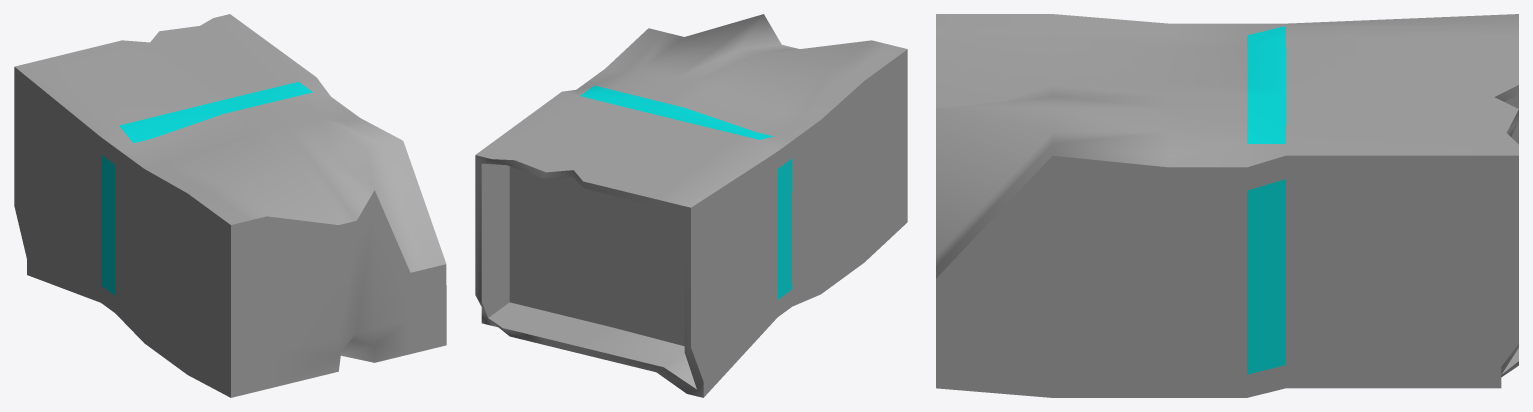
Rendered from Destroyed Building 2.fbx.
The picture shows the model from 3 angles, left to right: view 1: azimuth 30°, elevation 25°; view 2: azimuth 150°, elevation 25°; view 3: azimuth 270°, elevation 25°; orthographic projection. The views are drawn at different scales.
Visible parts, largest first — view 1: polySurface4; view 2: polySurface4; view 3: polySurface4.
Part boxes in pixels (x1=…): polySurface4: x1=14, y1=14, x2=446, y2=397; polySurface4: x1=475, y1=14, x2=907, y2=397; polySurface4: x1=936, y1=14, x2=1518, y2=397.
Bounding box in the file's own units: 1.31 × 1.16 × 2.28.
